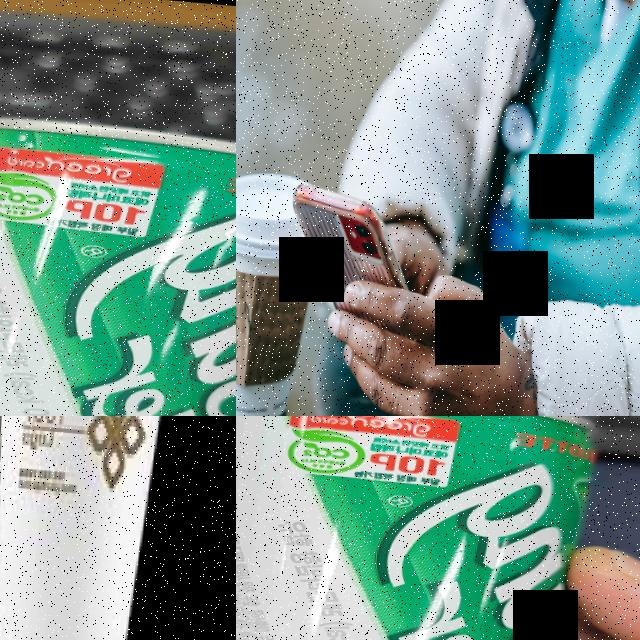can: (236, 416, 603, 640), (0, 104, 236, 416)
cup: (0, 416, 208, 640), (236, 169, 319, 416)
